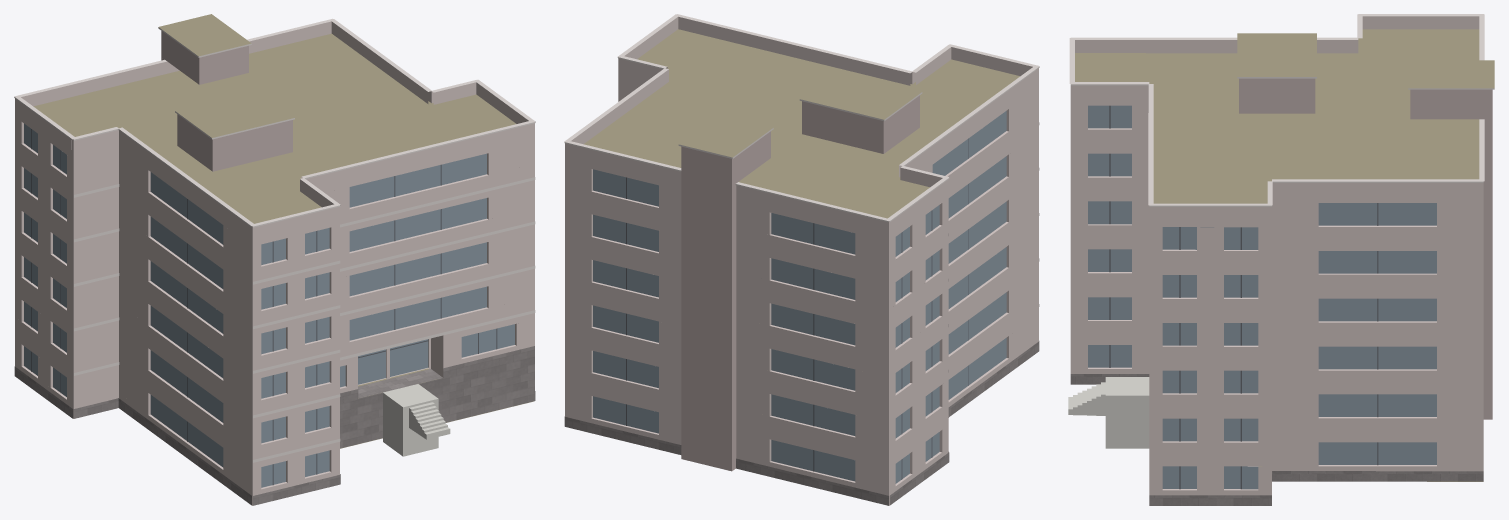
3 views of the same model, side by side, from view 1: azimuth 30°, elevation 25°; view 2: azimuth 150°, elevation 25°; view 3: azimuth 270°, elevation 25° (orthographic). The views are drawn at different scales.
Visible parts, largest first — view 1: b900__wall, b900__roof, b900__glass, b900__base, b900__parapet, b900__trim, b900__wall2, b900__entranceStair, b900__frame; view 2: b900__wall, b900__roof, b900__glass, b900__wall2, b900__parapet, b900__trim, b900__base, b900__frame; view 3: b900__wall, b900__roof, b900__glass, b900__parapet, b900__wall2, b900__trim, b900__entranceStair, b900__base, b900__frame.
Boxes of the visible parts, x1,y1,x2,y2 form: b900__wall: (15, 109, 534, 505); b900__roof: (33, 14, 533, 505); b900__glass: (24, 123, 514, 487); b900__base: (14, 346, 535, 505); b900__parapet: (15, 21, 534, 238); b900__trim: (14, 18, 535, 462); b900__wall2: (161, 31, 292, 171); b900__entranceStair: (383, 384, 450, 456); b900__frame: (31, 129, 497, 485); b900__wall: (565, 69, 1038, 505); b900__roof: (584, 29, 1019, 218); b900__glass: (593, 111, 1006, 483); b900__wall2: (681, 95, 919, 471); b900__parapet: (565, 16, 1038, 233); b900__trim: (564, 14, 1039, 417); b900__base: (564, 341, 1039, 505); b900__frame: (626, 138, 968, 479); b900__wall: (1070, 97, 1483, 495); b900__roof: (1075, 29, 1494, 481); b900__glass: (1088, 105, 1436, 489); b900__parapet: (1070, 16, 1483, 218); b900__wall2: (1239, 78, 1492, 419); b900__trim: (1069, 14, 1494, 206); b900__entranceStair: (1068, 377, 1149, 448); b900__base: (1070, 374, 1483, 505); b900__frame: (1109, 105, 1378, 489).
Bounding box in the file's own units: 30.93 × 25.29 × 29.08.
10 materials, 1 textured.
